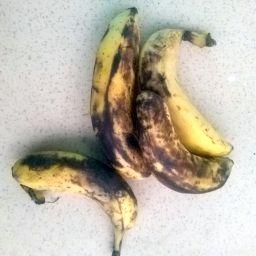banana: (1, 149, 141, 256), (136, 25, 238, 160), (87, 6, 155, 183), (130, 87, 235, 197)
